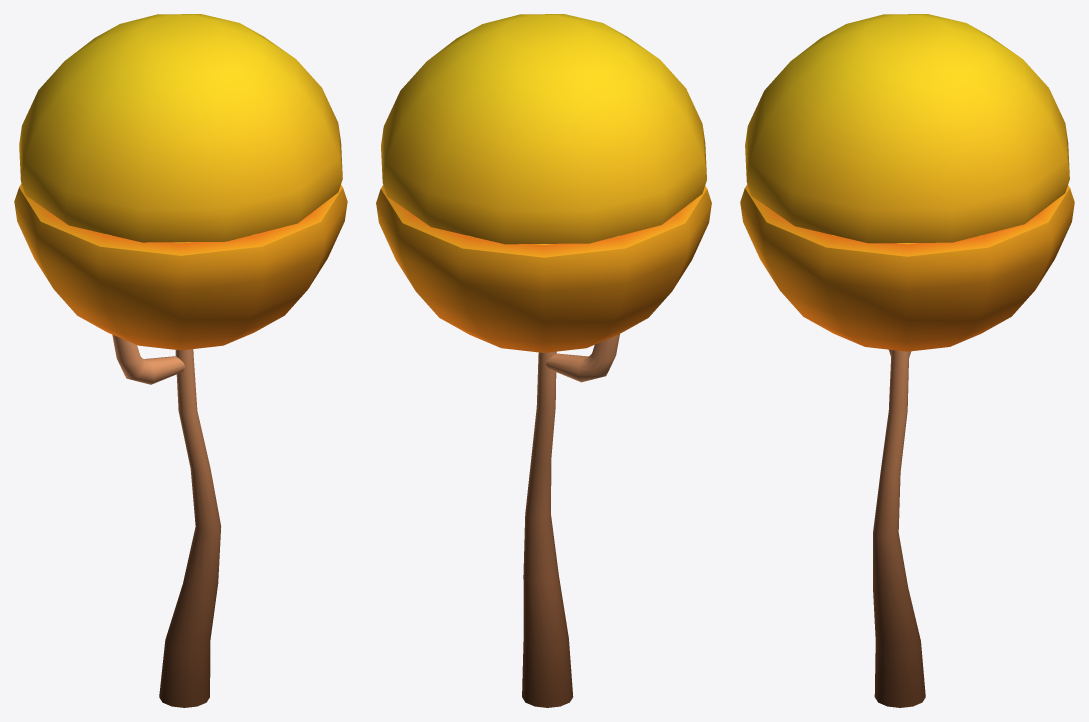
The model's file is lpb_tree_4_b.fbx.
The picture shows the model from 3 angles, left to right: view 1: azimuth 30°, elevation 25°; view 2: azimuth 150°, elevation 25°; view 3: azimuth 270°, elevation 25°; orthographic projection.
Parts seen in each view (by area): view 1: ap_tree_4.001; view 2: ap_tree_4.001; view 3: ap_tree_4.001.
Part boxes in pixels (x1=…): ap_tree_4.001: x1=14, y1=14, x2=347, y2=707; ap_tree_4.001: x1=376, y1=14, x2=711, y2=707; ap_tree_4.001: x1=740, y1=14, x2=1074, y2=707.
Size of the model in its own units: 243 by 531 by 243.
